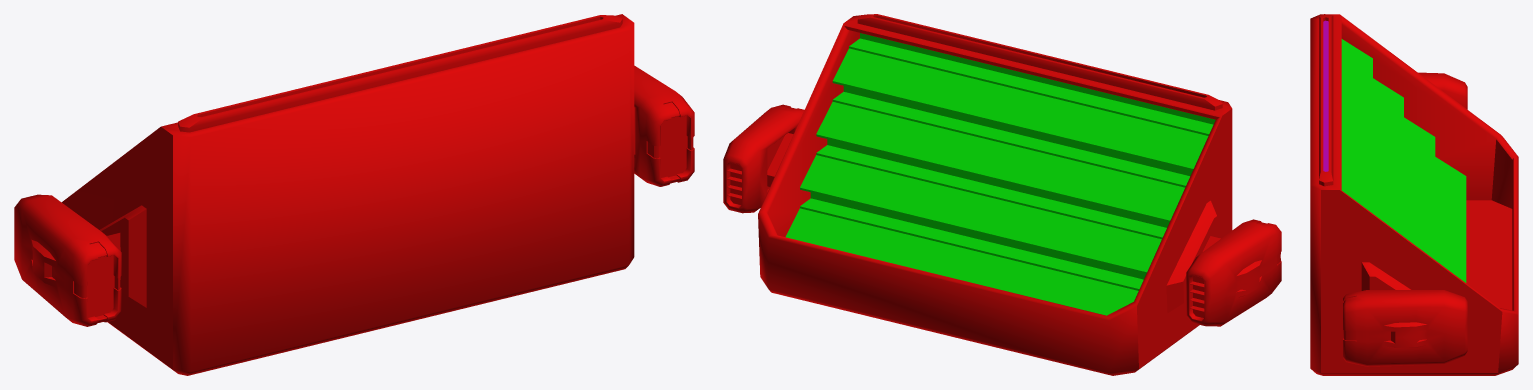
The model's file is Gradin 1.FBX.
3 views of the same model, side by side, from view 1: azimuth 30°, elevation 25°; view 2: azimuth 150°, elevation 25°; view 3: azimuth 270°, elevation 25° (orthographic). The views are drawn at different scales.
Parts seen in each view (by area): view 1: Gradin; view 2: Gradin; view 3: Gradin.
Boxes of the visible parts, bbox=[...] form: Gradin: bbox=[14, 14, 694, 375]; Gradin: bbox=[723, 14, 1281, 375]; Gradin: bbox=[1310, 14, 1518, 375].
Bounding box in the file's own units: 2703 × 1041 × 1001.
